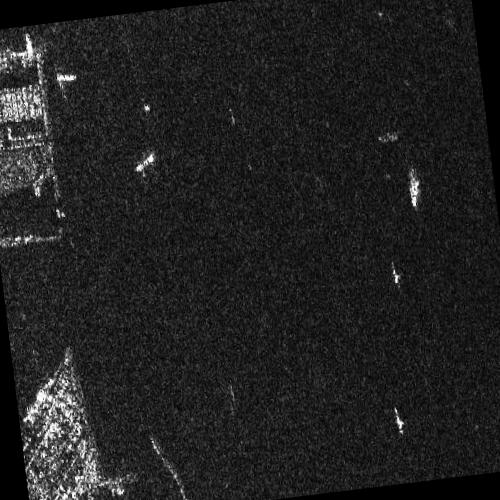ship: (408, 169, 420, 209), (135, 151, 156, 173), (393, 406, 404, 435), (55, 72, 77, 83), (391, 263, 399, 285)
